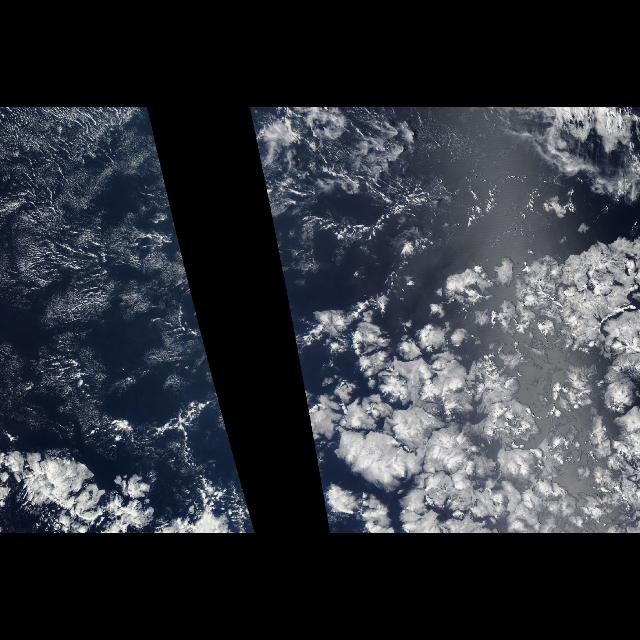Flower: (302, 254, 638, 530)
Sugar: (5, 111, 213, 457)
